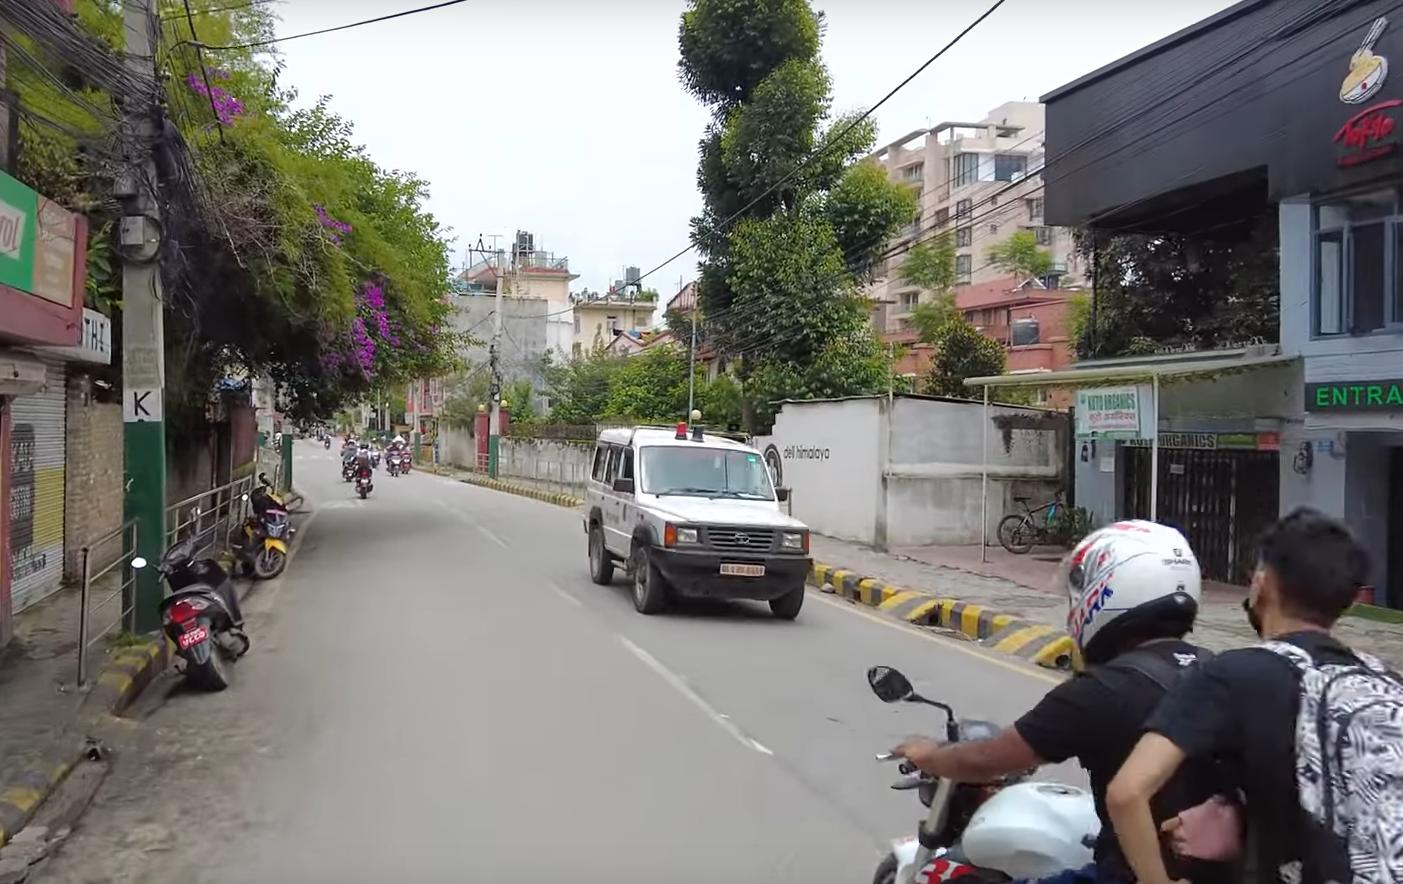ambulance: (581, 422, 819, 630)
scooter: (131, 531, 256, 701), (238, 471, 304, 585)
